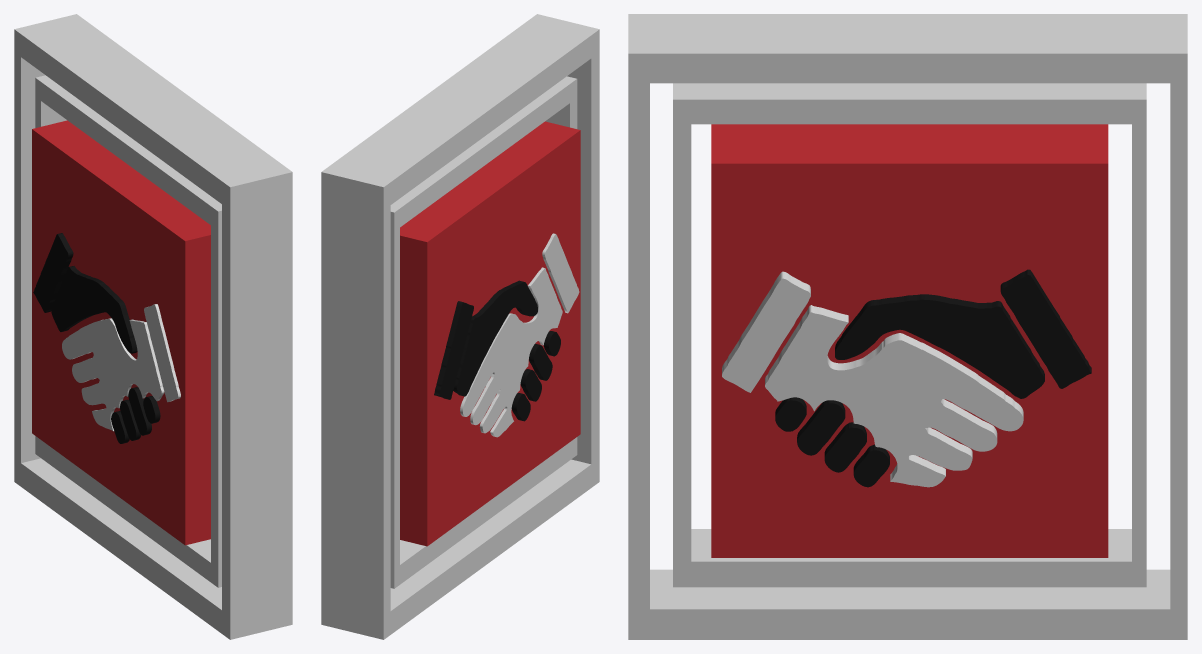
Rendered from offer-model_light.glb.
3 renders of one model, left to right at view 1: azimuth 30°, elevation 25°; view 2: azimuth 150°, elevation 25°; view 3: azimuth 270°, elevation 25°, orthographic. The views are drawn at different scales.
Visible parts, largest first — view 1: Cube002, Cube, Cube001, Color_Fill_2, Color_Fill_1; view 2: Cube002, Cube, Cube001, Color_Fill_2, Color_Fill_1; view 3: Cube, Cube002, Cube001, Color_Fill_2001, Color_Fill_1001.
Boxes of the visible parts, box(x1,y1,x2,y2) form: Cube002: box(14, 14, 292, 639); Cube: box(32, 120, 210, 545); Cube001: box(35, 75, 221, 587); Color_Fill_2: box(62, 304, 180, 431); Color_Fill_1: box(33, 233, 160, 443); Cube002: box(321, 14, 599, 639); Cube: box(400, 121, 580, 546); Cube001: box(390, 76, 577, 588); Color_Fill_2: box(460, 233, 579, 437); Color_Fill_1: box(434, 280, 560, 421); Cube: box(711, 124, 1108, 557); Cube002: box(628, 14, 1187, 639); Cube001: box(673, 83, 1146, 587); Color_Fill_2001: box(722, 271, 1023, 487); Color_Fill_1001: box(775, 269, 1091, 487).
Size of the model in its own units: 0.5733 by 2.17 by 1.88.
